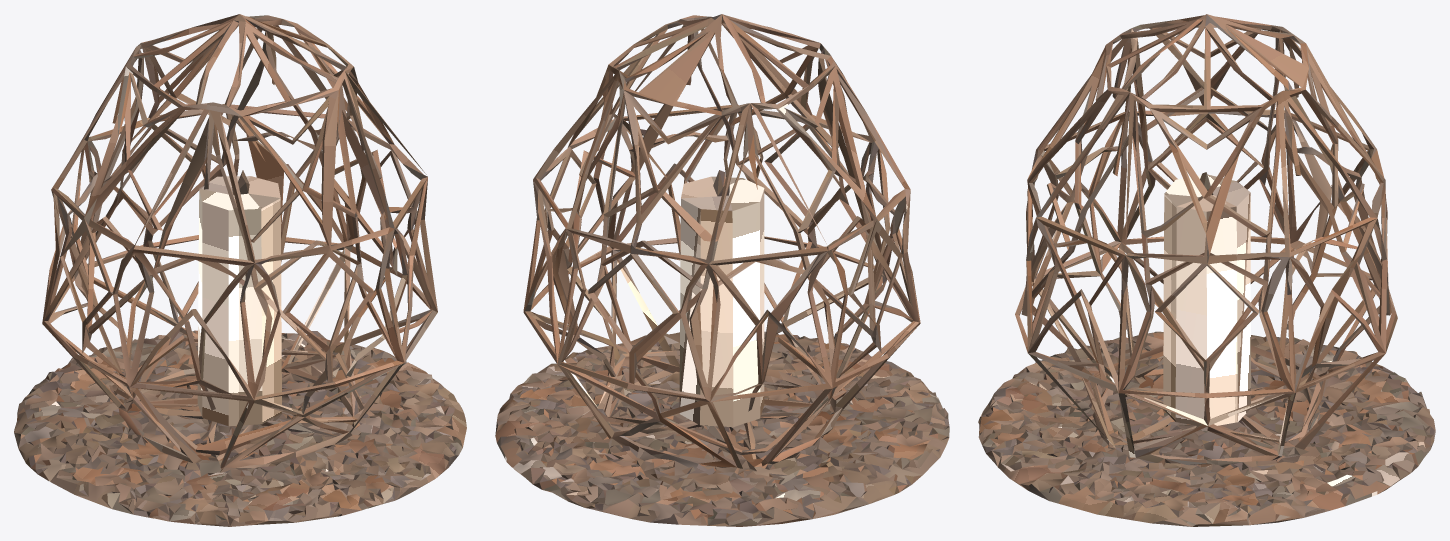
The model's file is lantern.glb.
The picture shows the model from 3 angles, left to right: view 1: azimuth 30°, elevation 25°; view 2: azimuth 150°, elevation 25°; view 3: azimuth 270°, elevation 25°; orthographic projection.
Size of the model in its own units: 1.83 by 1.89 by 1.85.
1 material, 1 textured.
